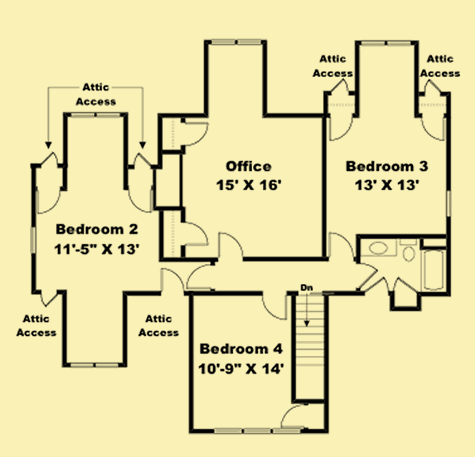door: (156, 266, 186, 298), (327, 228, 355, 262), (189, 263, 219, 293), (125, 183, 154, 213), (214, 232, 244, 261), (181, 118, 210, 147), (418, 116, 447, 145), (260, 291, 288, 321), (181, 220, 209, 249), (327, 113, 354, 143), (358, 259, 382, 292), (277, 402, 305, 430), (35, 187, 60, 216)
large_sink: (397, 238, 420, 265)
stairs: (291, 290, 326, 406)
tub: (419, 249, 450, 293)
window: (359, 37, 413, 49), (68, 360, 119, 372), (208, 37, 262, 48)
